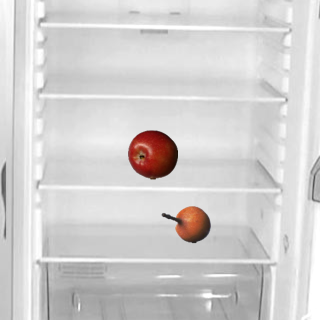Apple Braeburn: (127, 129, 177, 179)
Granadilla: (160, 199, 210, 249)
